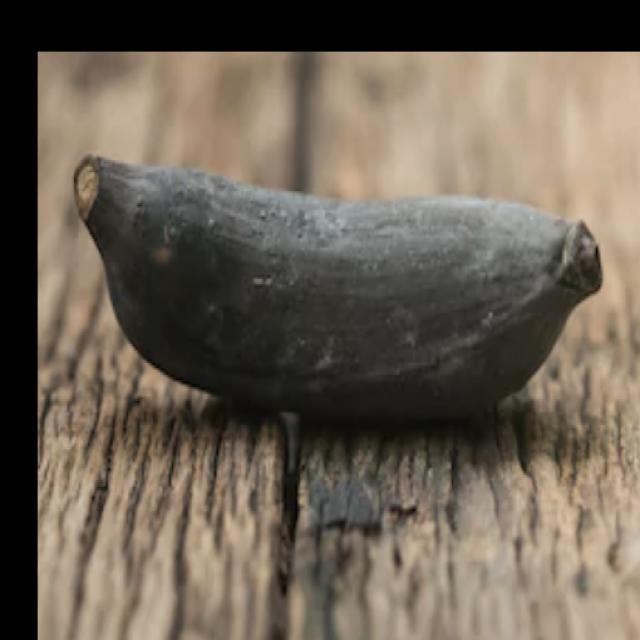Rotten: (61, 118, 615, 480)
